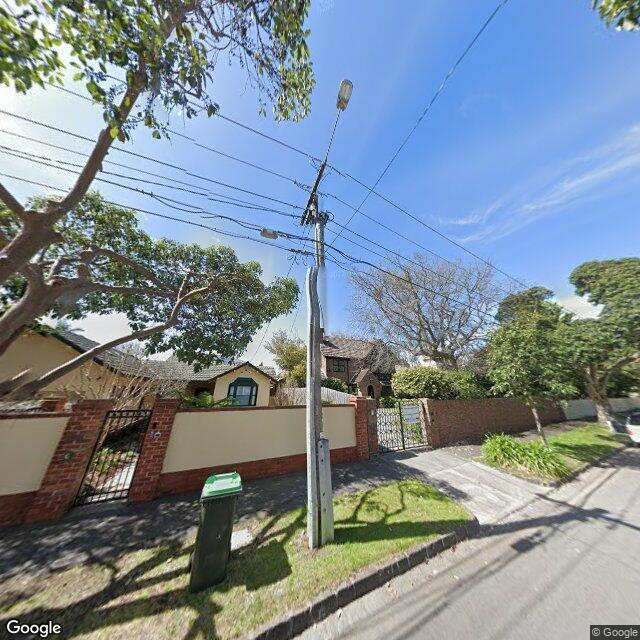crossarm: (300, 161, 326, 226)
streetlight: (323, 79, 353, 166), (261, 229, 316, 242)
timber-pole: (305, 193, 328, 549)
